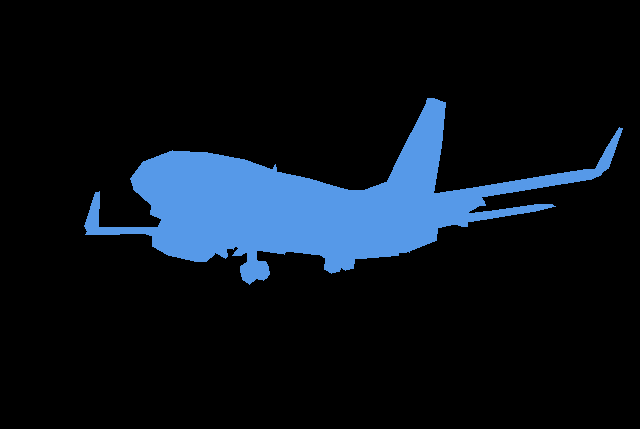Airplane: (84, 98, 622, 285)
